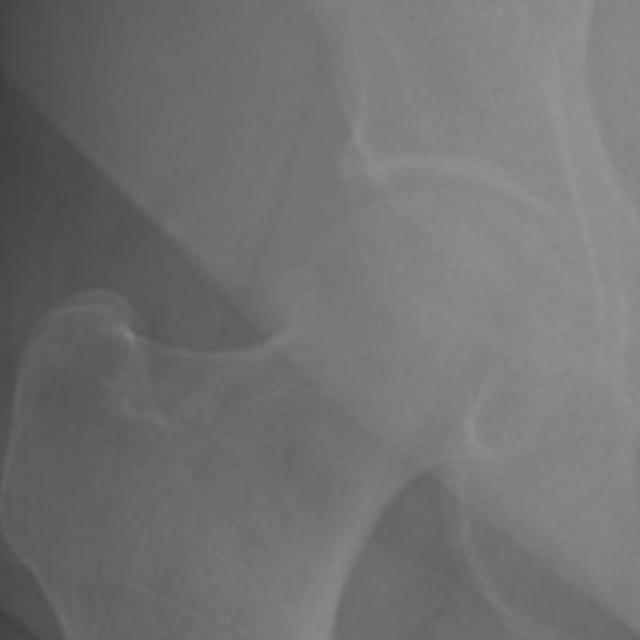Fitted_femural_head: (294, 188, 432, 294)
